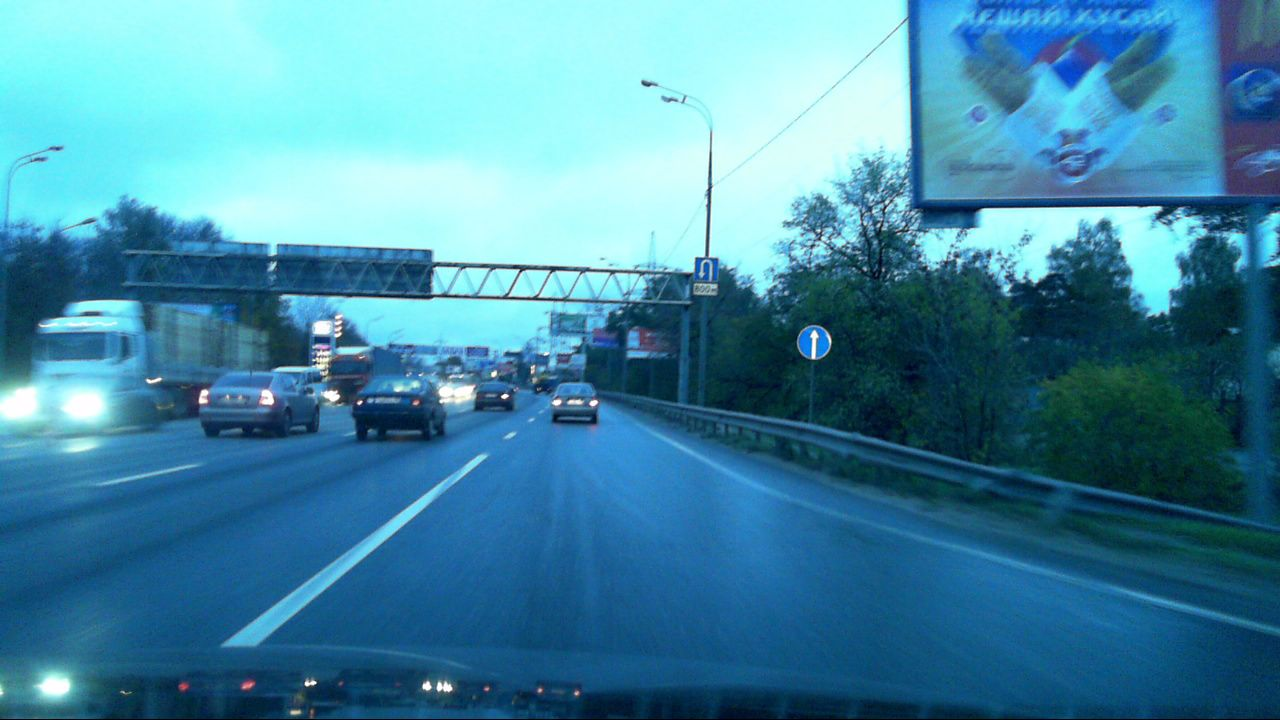U-turn: (694, 257, 719, 282)
